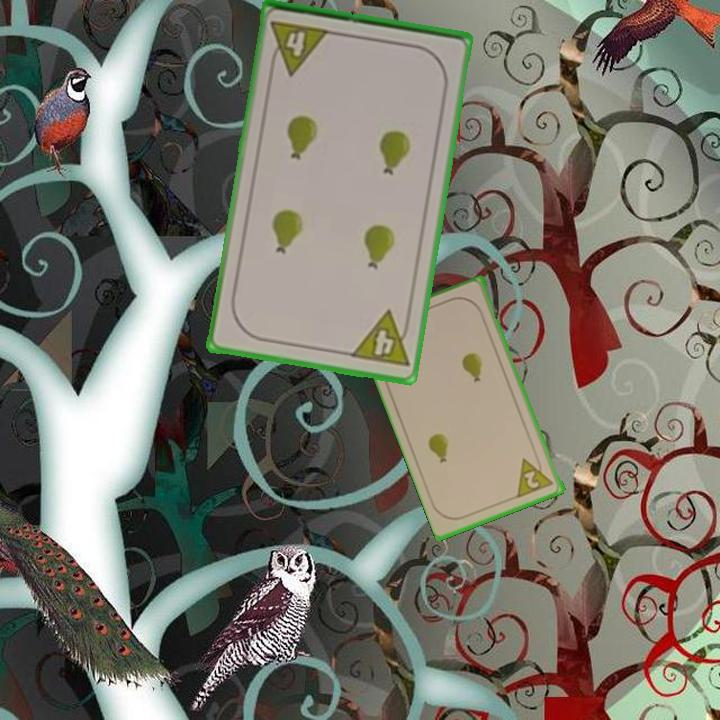2p: (514, 451, 557, 500)
4p: (347, 307, 415, 371), (266, 17, 333, 78)
